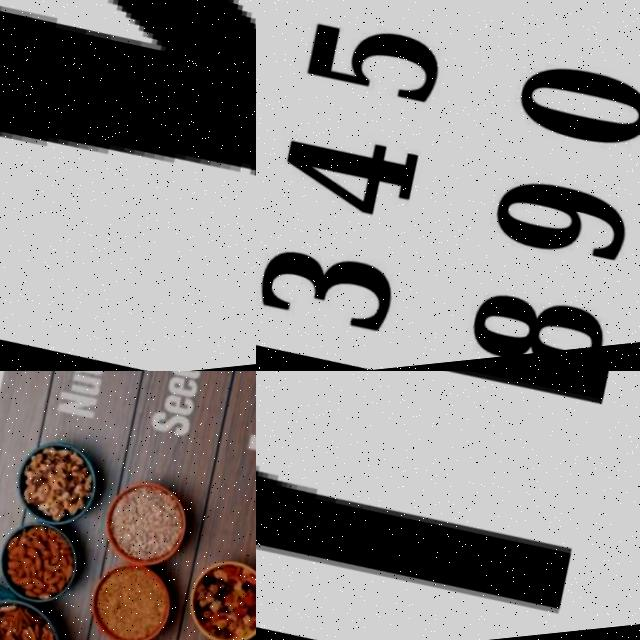0: (468, 40, 640, 189)
3: (256, 222, 398, 360)
4: (256, 112, 429, 246)
5: (277, 4, 448, 136)
8: (429, 275, 601, 370)
9: (451, 161, 640, 299)
D: (152, 371, 197, 390)
E: (154, 397, 189, 428), (158, 380, 192, 408)
F: (237, 439, 256, 468)
I: (248, 399, 256, 421)
M: (256, 371, 640, 640)
N: (48, 392, 92, 427)
S: (138, 413, 185, 447)
T: (60, 371, 99, 387)
U: (61, 376, 98, 407)
Y: (0, 0, 256, 371)
